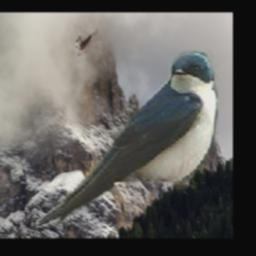Cuckoo: (76, 26, 100, 56)
Swallow: (37, 51, 219, 229)
